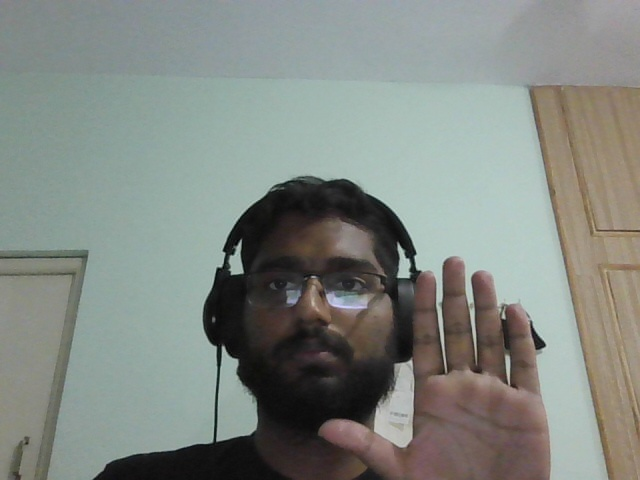Hello: (325, 250, 563, 478)
